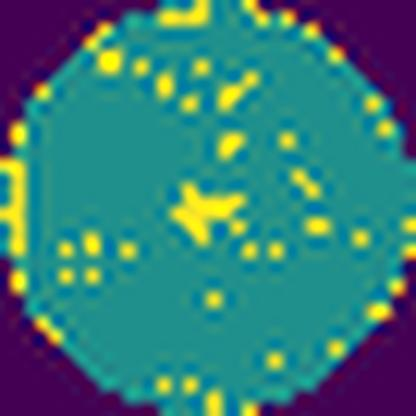Center: (164, 174, 256, 256)
